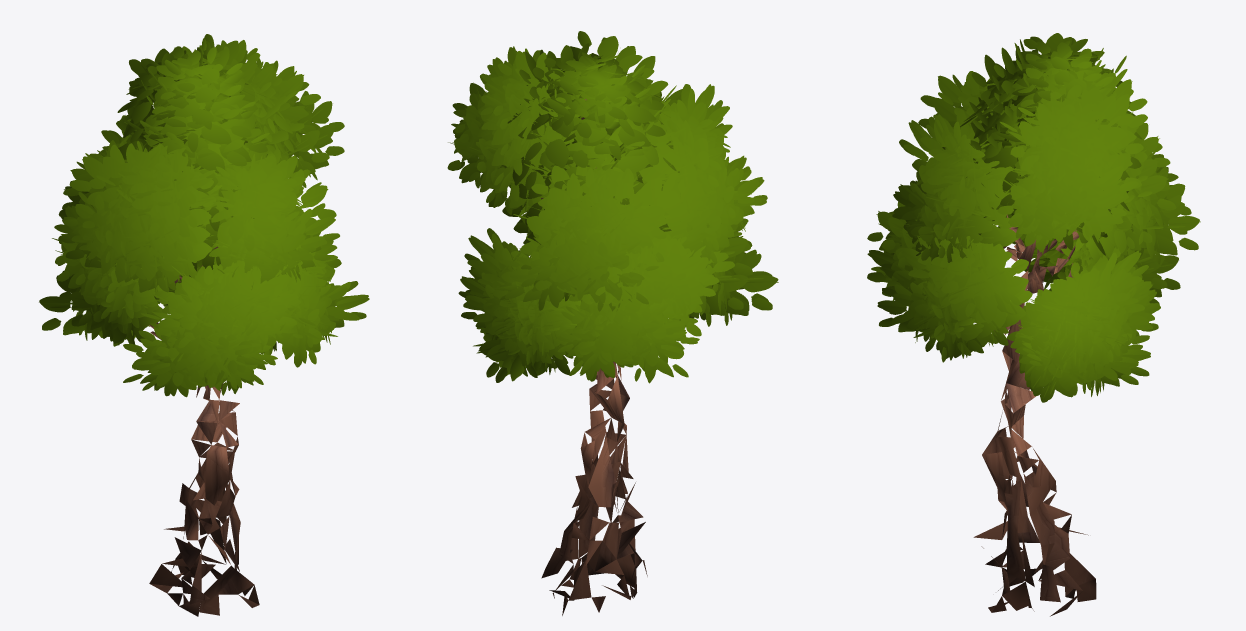
Rendered from tree_1.gltf.
The picture shows the model from 3 angles, left to right: view 1: azimuth 30°, elevation 25°; view 2: azimuth 150°, elevation 25°; view 3: azimuth 270°, elevation 25°; orthographic projection. The views are drawn at different scales.
Visible parts, largest first — view 1: CommonTree_1; view 2: CommonTree_1; view 3: CommonTree_1.
Part boxes in pixels (<box>): CommonTree_1: <box>39,34,369,616</box>; CommonTree_1: <box>447,31,778,615</box>; CommonTree_1: <box>867,33,1200,616</box>.
Size of the model in its own units: 4.31 by 7.31 by 4.58.
Materials: 2 (2 with a texture image).
